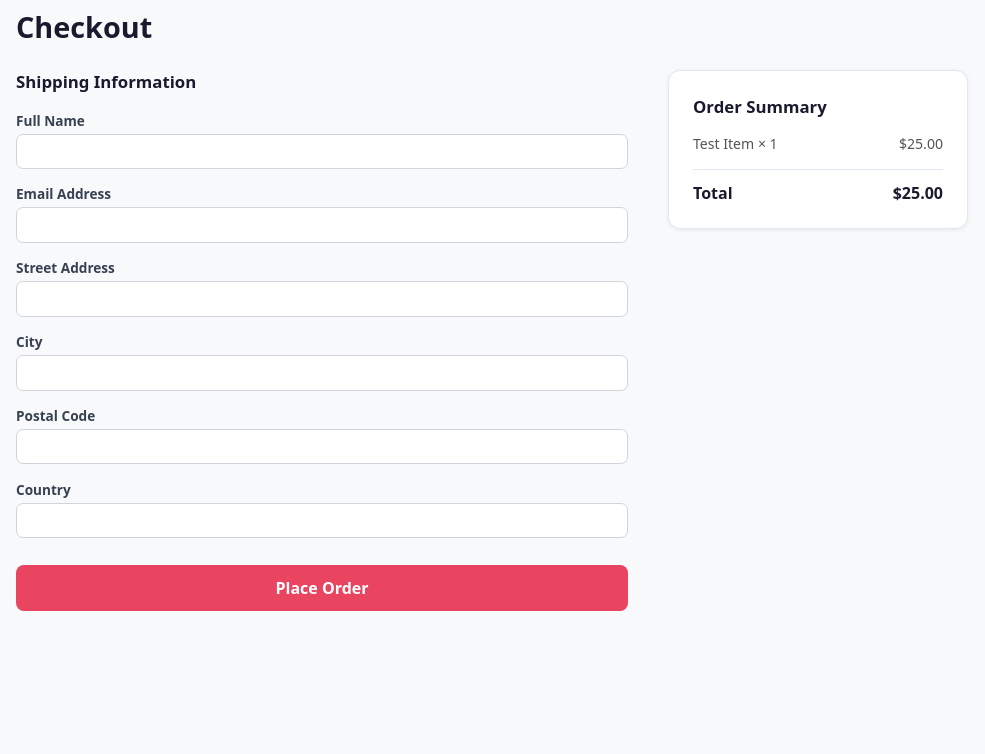
Test: Checkout › shows validation errors on empty submit
Click the button "Place Order" at point(322, 588), box x1=16 y1=565 x2=628 y2=611
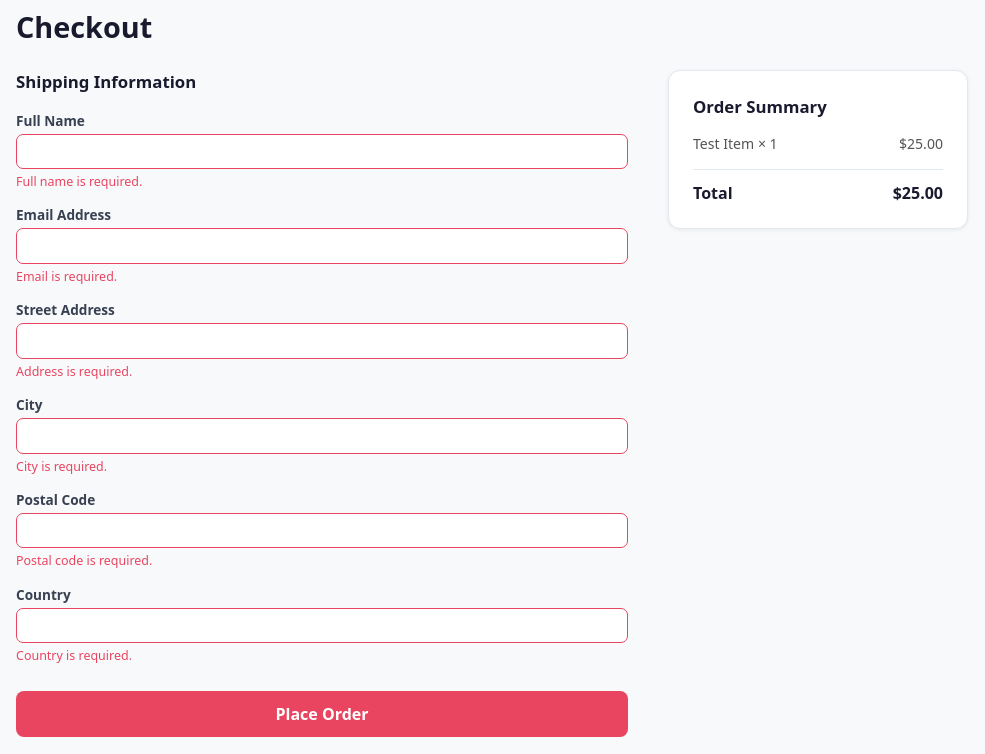
Result: the text "Full name is required." is shown at x1=16 y1=173 x2=142 y2=190
Result: the text "Email is required." is shown at x1=16 y1=268 x2=117 y2=285
